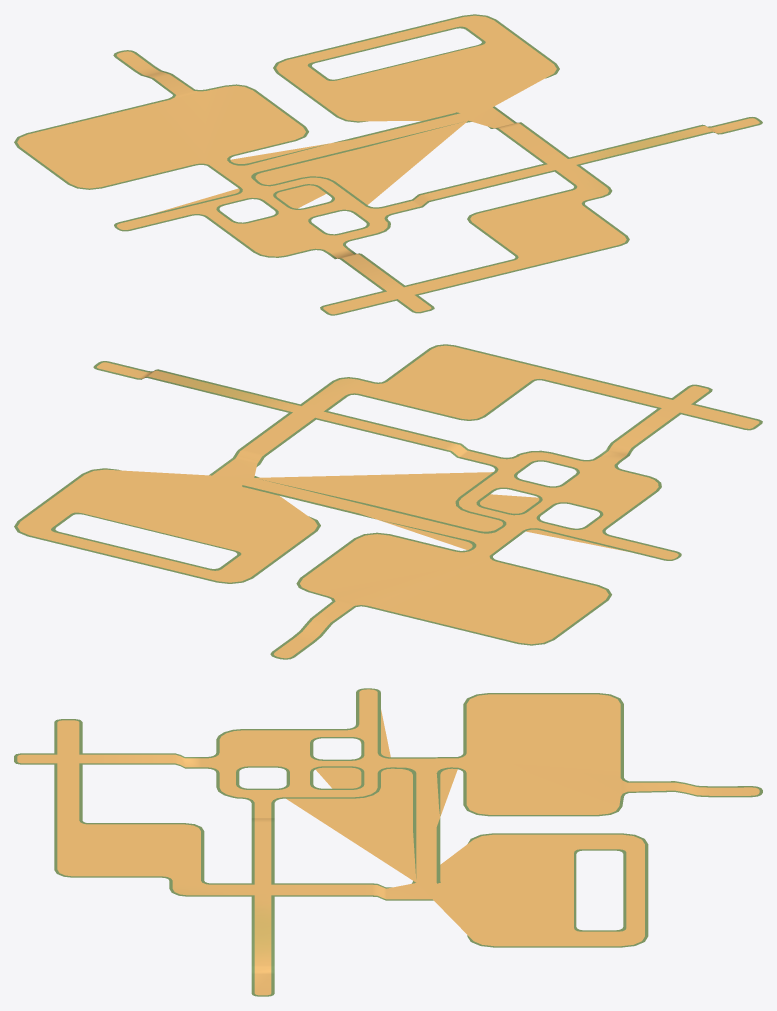
File: RoadMesh.fbx
3 renders of one model, top to bottom at view 1: azimuth 30°, elevation 25°; view 2: azimuth 150°, elevation 25°; view 3: azimuth 270°, elevation 25°, orthographic. The views are drawn at different scales.
Parts seen in each view (by area): view 1: Plane.054; view 2: Plane.054; view 3: Plane.054.
Boxes of the visible parts, x1,y1,x2,y2 form: Plane.054: [14, 14, 762, 315]; Plane.054: [14, 344, 762, 659]; Plane.054: [14, 688, 762, 996].
Bounding box in the file's own units: 17.98 × 0.2484 × 18.46.
